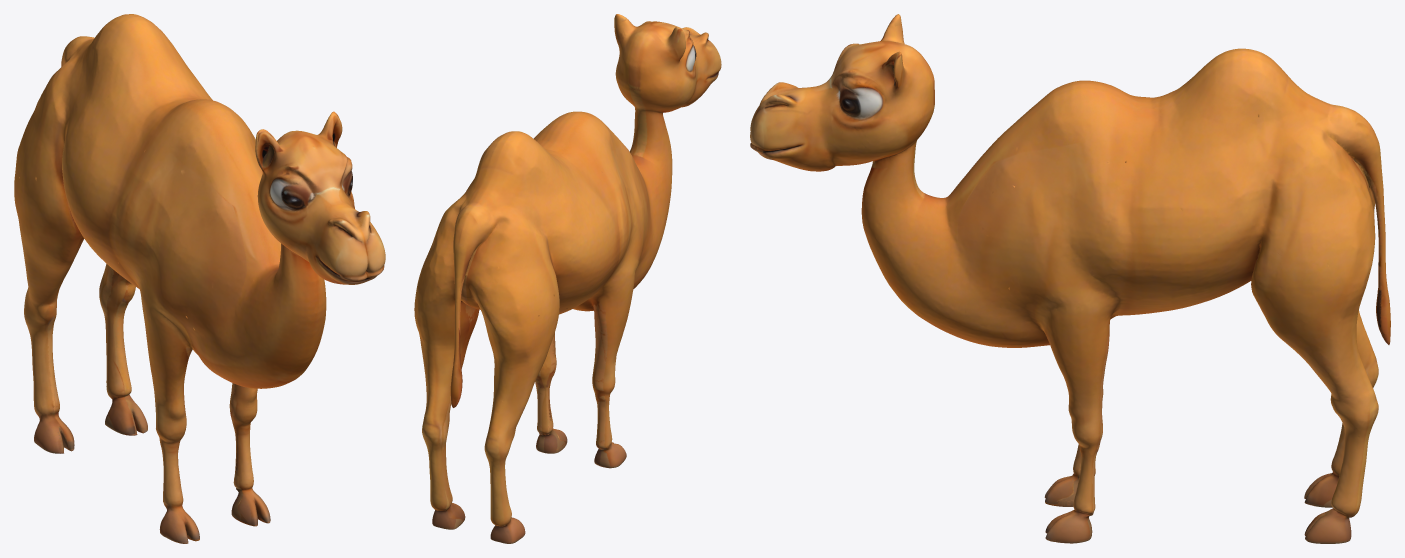
The model's file is CAMEL.fbx.
3 renders of one model, left to right at view 1: azimuth 30°, elevation 25°; view 2: azimuth 150°, elevation 25°; view 3: azimuth 270°, elevation 25°, orthographic. The views are drawn at different scales.
Parts seen in each view (by area): view 1: Mesh_0.047; view 2: Mesh_0.047; view 3: Mesh_0.047.
Part boxes in pixels (bbox=[...]): Mesh_0.047: bbox=[14, 14, 385, 543]; Mesh_0.047: bbox=[414, 14, 721, 543]; Mesh_0.047: bbox=[750, 14, 1390, 543].
Bounding box in the file's own units: 61.57 × 167 × 199.
Materials: 1 (1 with a texture image).
